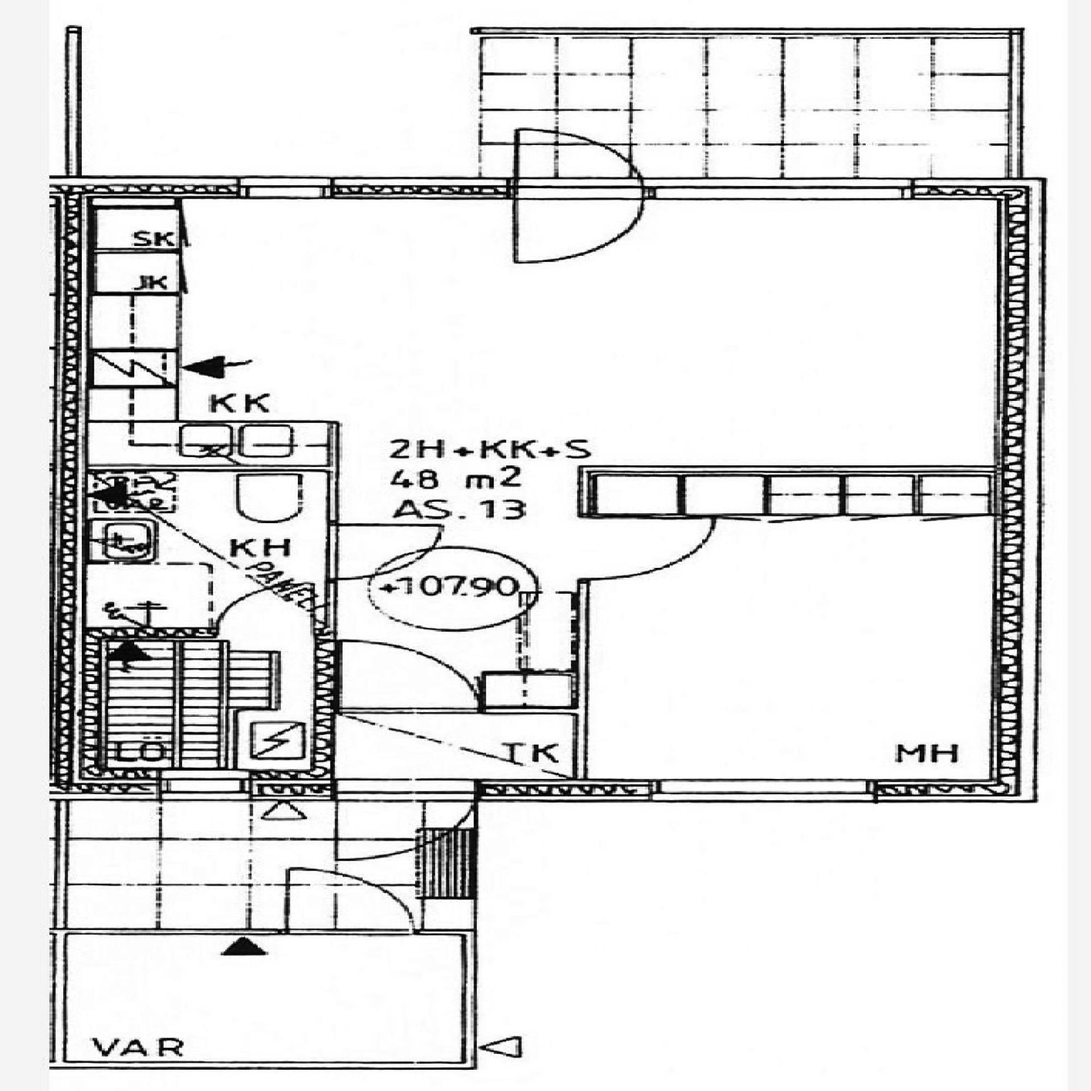wall: (993, 177, 1039, 802), (48, 177, 1040, 200), (48, 177, 85, 628), (339, 779, 1039, 802), (48, 628, 105, 802), (48, 770, 338, 802), (573, 467, 587, 802), (313, 633, 338, 803), (573, 466, 1039, 473), (57, 929, 477, 936), (48, 628, 338, 638), (326, 422, 338, 633), (57, 1062, 477, 1068), (48, 464, 338, 471), (463, 929, 477, 1069), (56, 929, 70, 1069), (312, 708, 587, 714)
